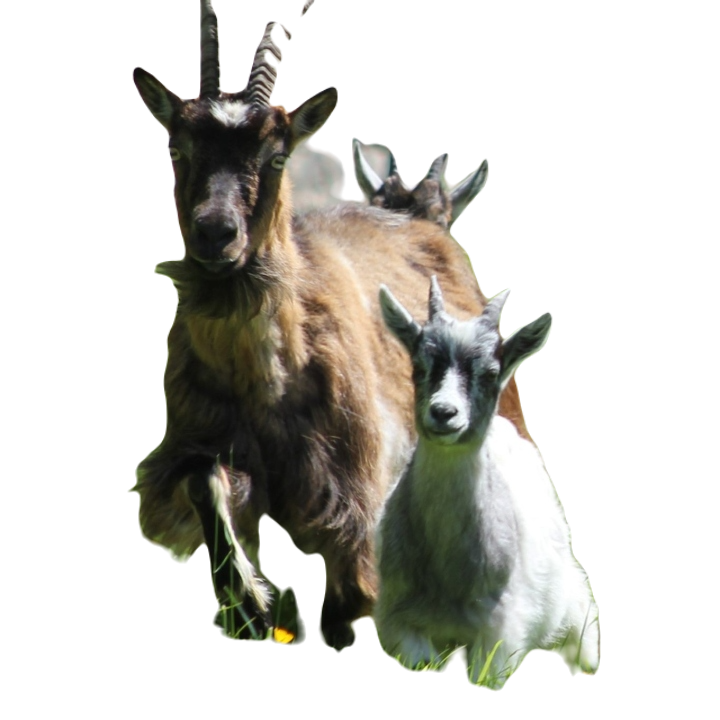Goat: (367, 275, 604, 689)
